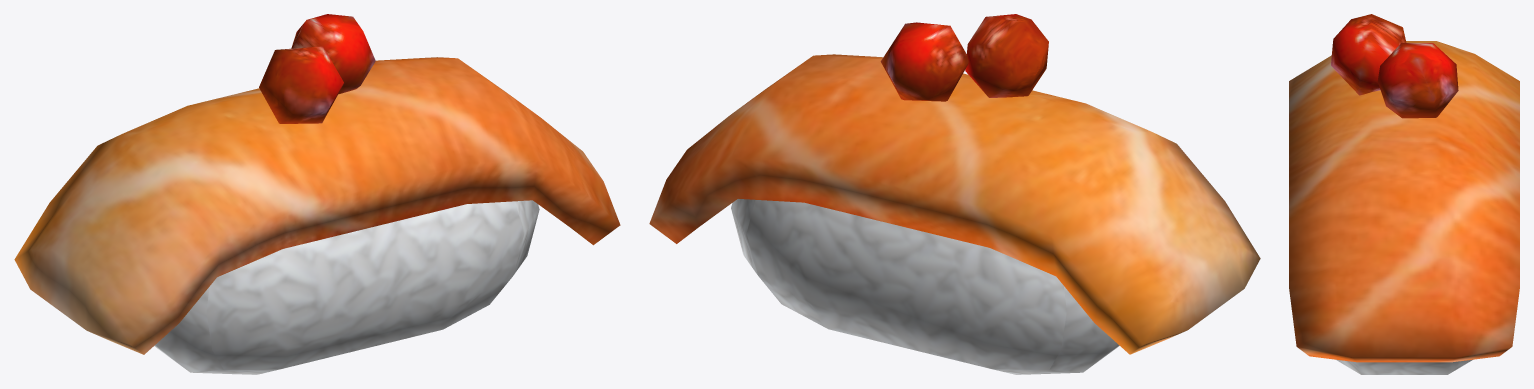
The model's file is salmon_2.fbx.
3 renders of one model, left to right at view 1: azimuth 30°, elevation 25°; view 2: azimuth 150°, elevation 25°; view 3: azimuth 270°, elevation 25°, orthographic. The views are drawn at different scales.
Parts seen in each view (by area): view 1: salmon_2; view 2: salmon_2; view 3: salmon_2.
Part boxes in pixels (left/top/right/bottom): salmon_2: left=14, top=14, right=620, bottom=374; salmon_2: left=649, top=14, right=1260, bottom=374; salmon_2: left=1289, top=14, right=1519, bottom=374.
Bounding box in the file's own units: 7.62 × 4.34 × 3.17.
